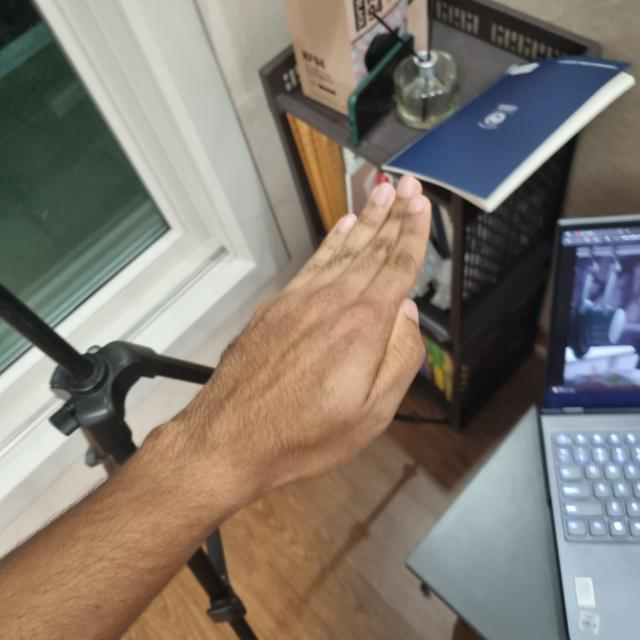Paper: (183, 174, 431, 497)
